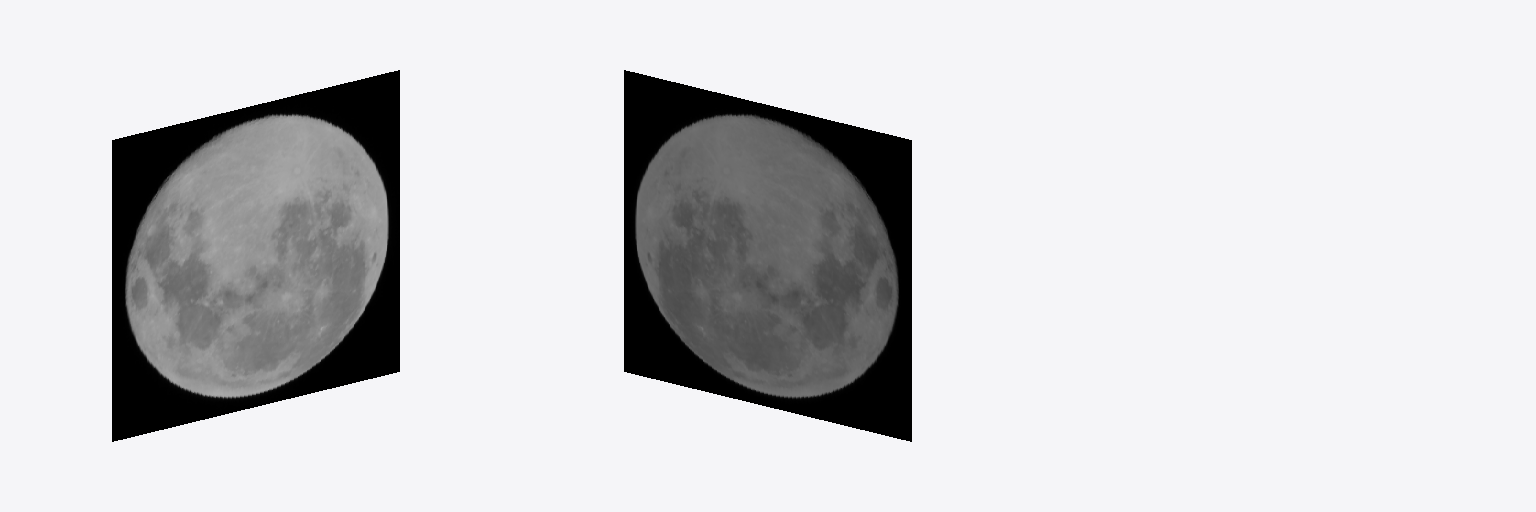
The picture shows the model from 3 angles: view 1: azimuth 30°, elevation 25°; view 2: azimuth 150°, elevation 25°; view 3: azimuth 270°, elevation 25°; orthographic projection.
Parts seen in each view (by area): view 1: Plane; view 2: Plane; view 3: none.
Boxes of the visible parts, box(x1,y1,x2,y2) form: Plane: box(112, 70, 399, 441); Plane: box(624, 70, 911, 441).
Bounding box in the file's own units: 2 × 2 × 0.
Materials: 1 (1 with a texture image).